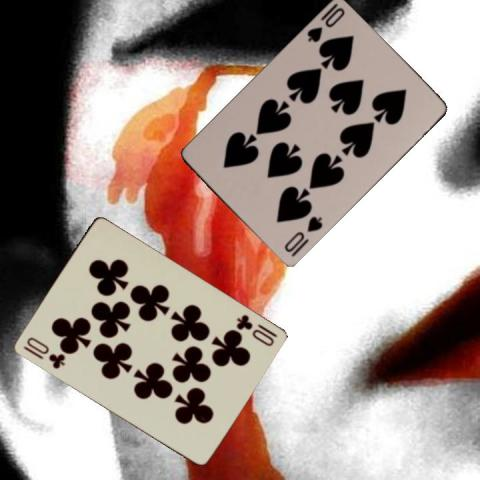10c: (19, 334, 66, 371), (233, 311, 278, 348)
10s: (281, 213, 324, 255), (303, 5, 346, 44)
